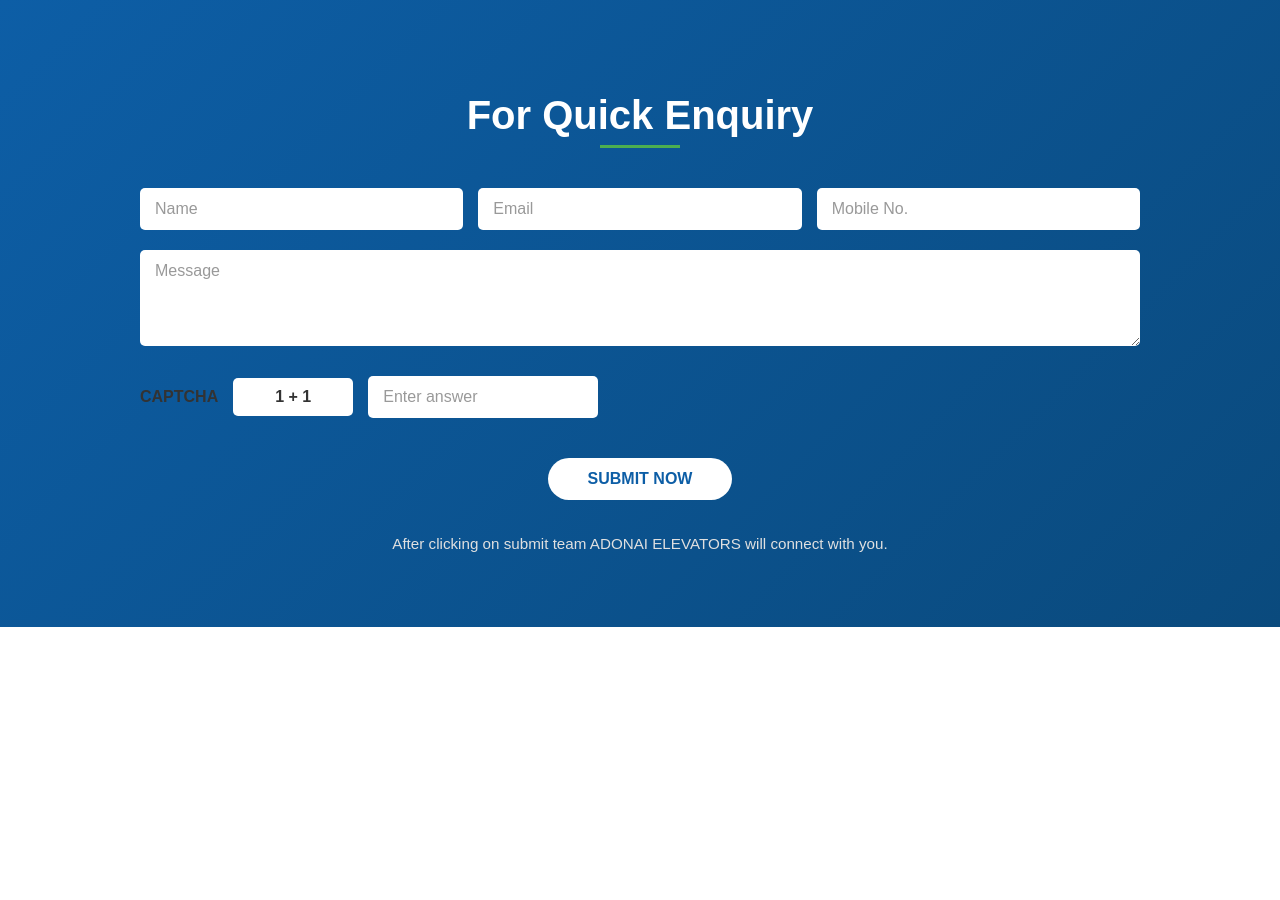
shows a network error and still refreshes the CAPTCHA when the request itself fails
This screenshot has width=1280, height=900.
expect the text "1 + 1" is shown: met, box left=233, top=378, right=353, bottom=416
Type "Jane Doe" into the field with placeholder "Name" at (302, 209), box left=140, top=188, right=463, bottom=230
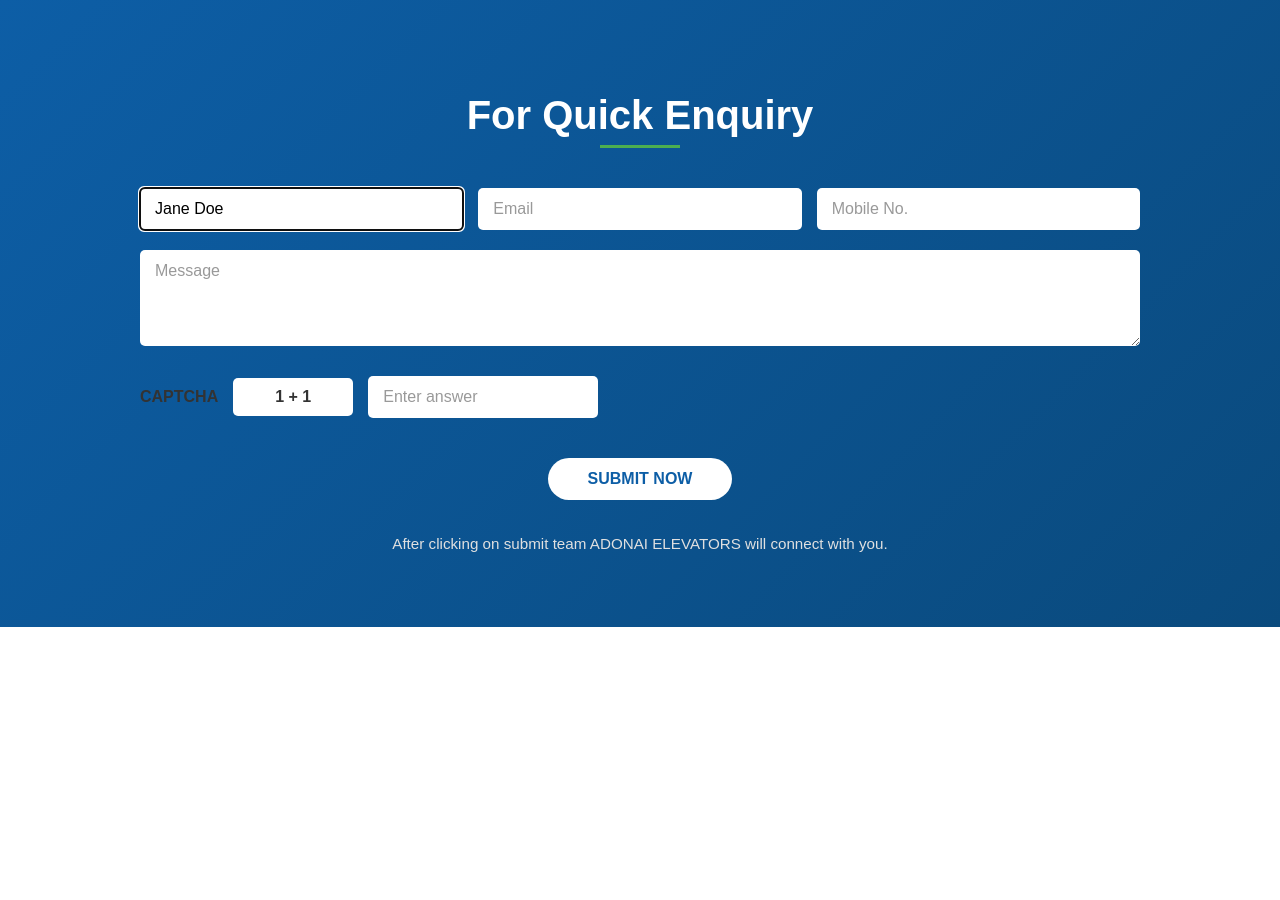
Type "jane@example.com" into the field with placeholder "Email" at (640, 209), box left=478, top=188, right=802, bottom=230
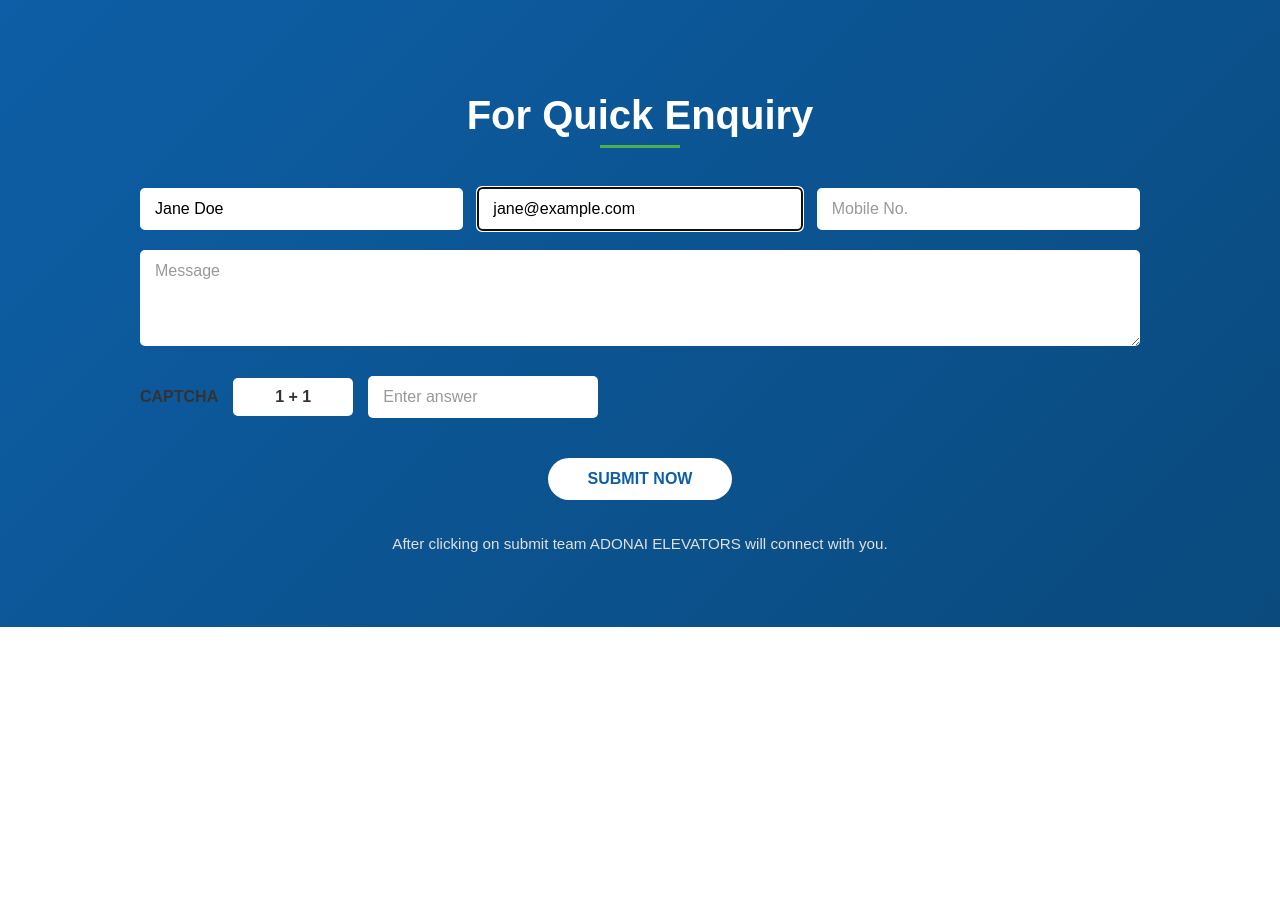
Type "9876543210" into the field with placeholder "Mobile No." at (978, 209), box left=817, top=188, right=1140, bottom=230
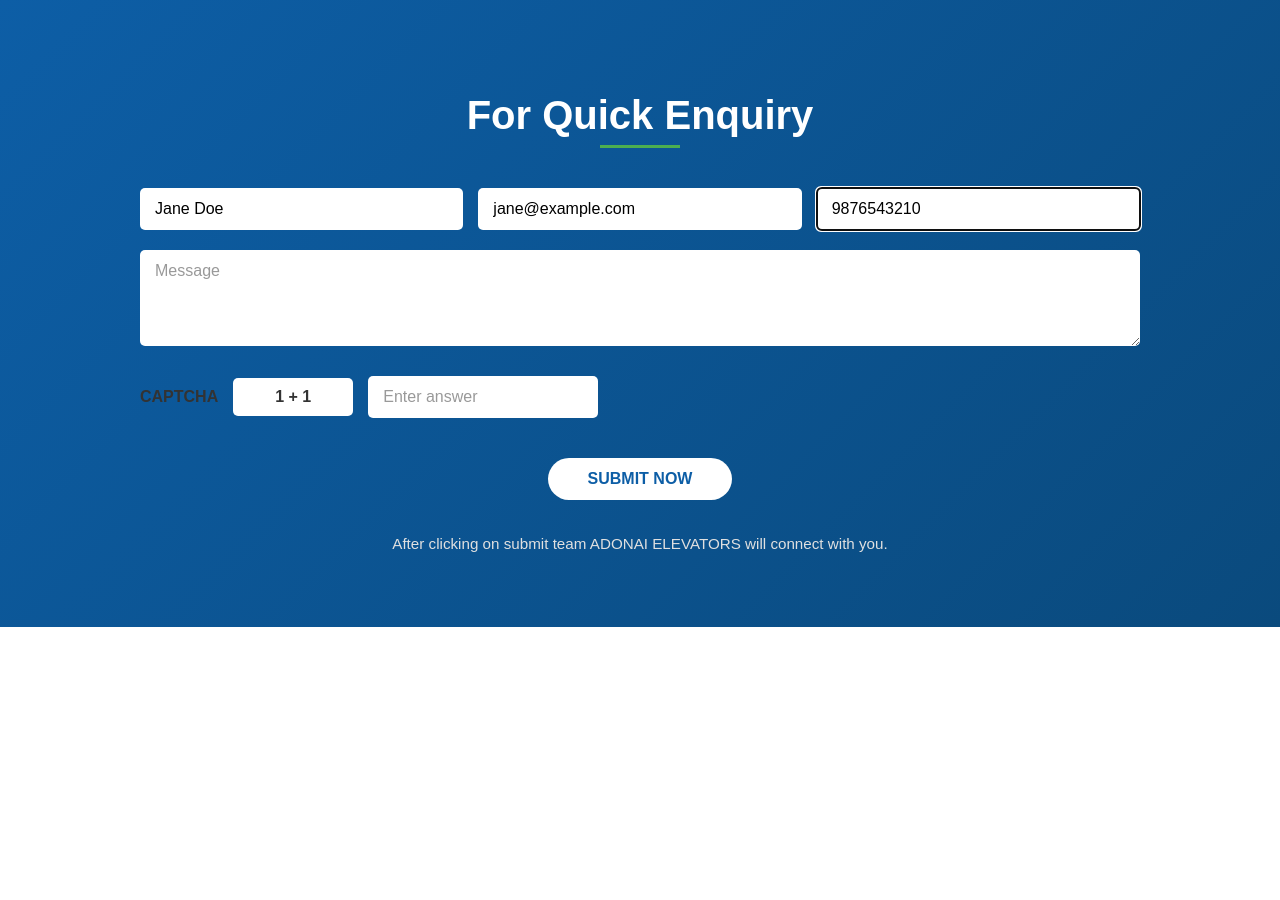
Type "2" into the field with placeholder "Enter answer" at (483, 397), box left=368, top=376, right=598, bottom=418
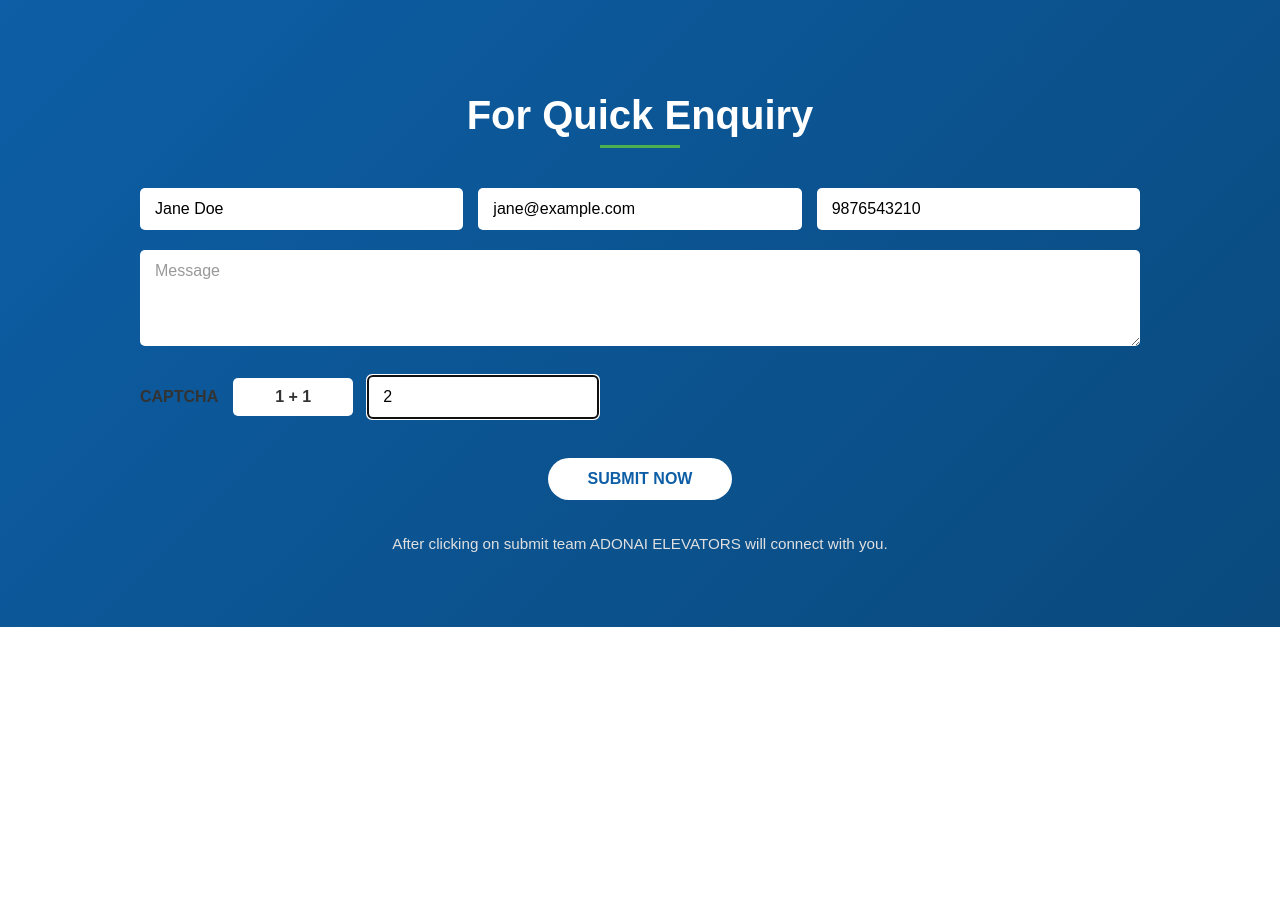
Click the button "SUBMIT NOW" at (640, 479), box left=548, top=458, right=732, bottom=500
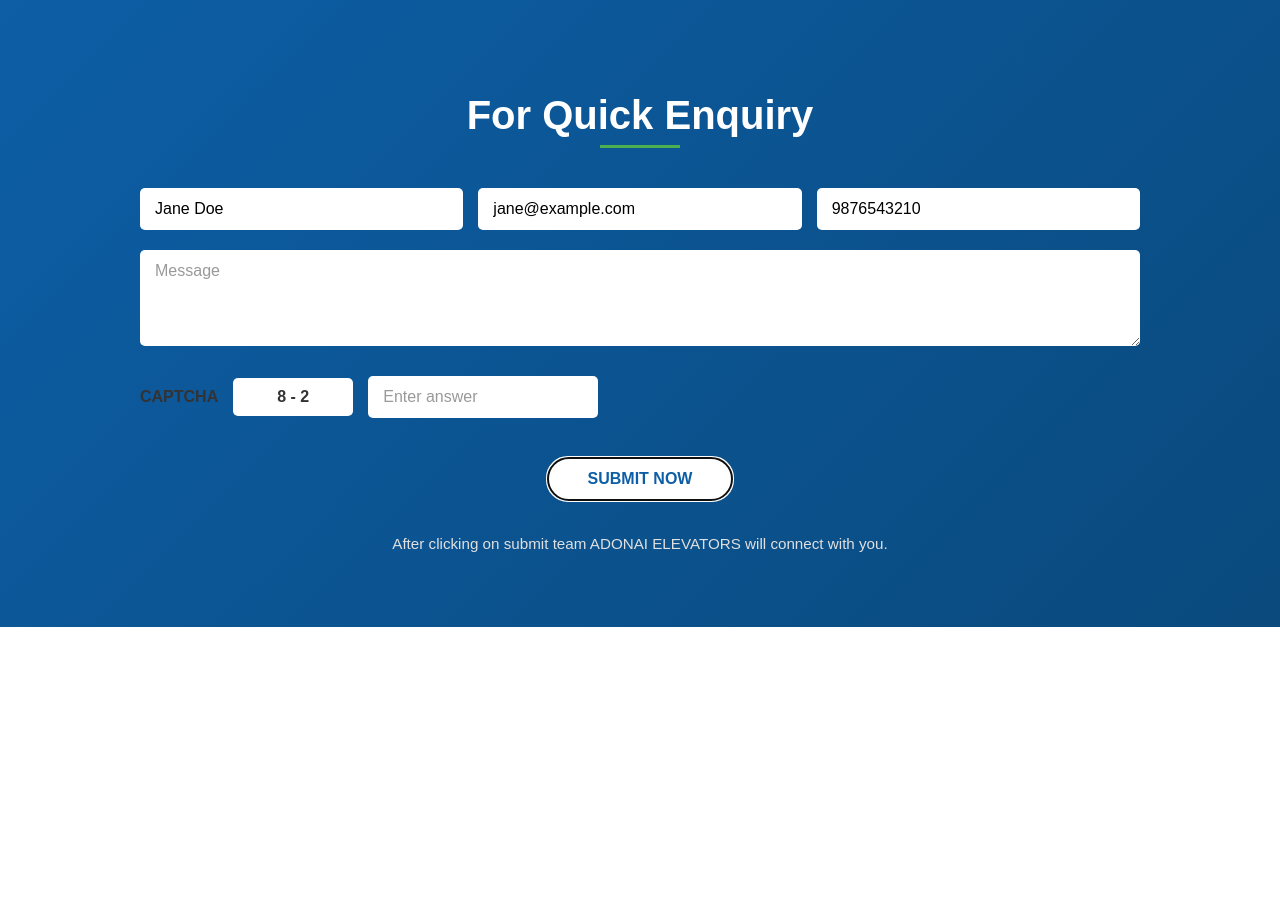
expect the text "8 - 2" is shown: met, box left=233, top=378, right=353, bottom=416
